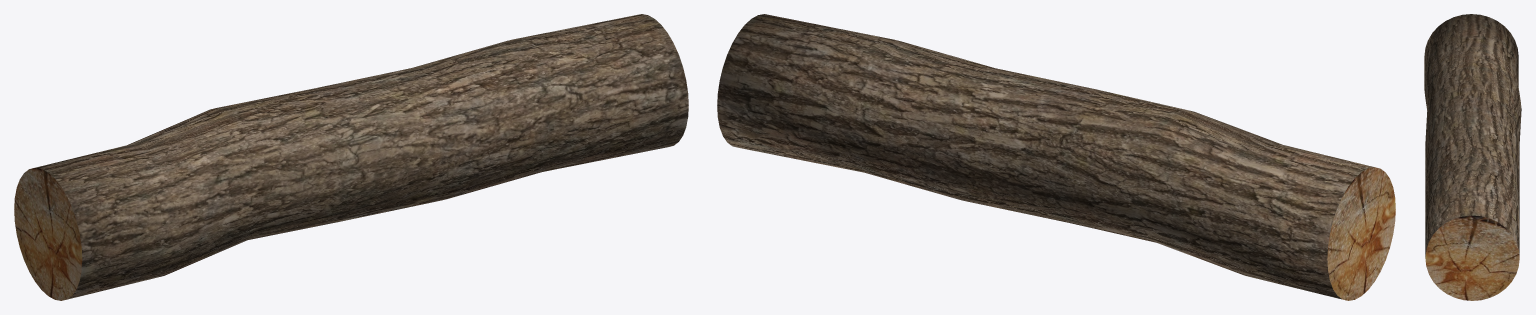
File: log1.glb
3 views of the same model, side by side, from view 1: azimuth 30°, elevation 25°; view 2: azimuth 150°, elevation 25°; view 3: azimuth 270°, elevation 25° (orthographic). The views are drawn at different scales.
Parts seen in each view (by area): view 1: log1; view 2: log1; view 3: log1.
Part boxes in pixels (bbox=[...]): log1: bbox=[14, 14, 688, 300]; log1: bbox=[717, 14, 1395, 300]; log1: bbox=[1424, 14, 1521, 300].
Size of the model in its own units: 2.7 by 0.5823 by 0.5412.
1 material, 1 textured.
